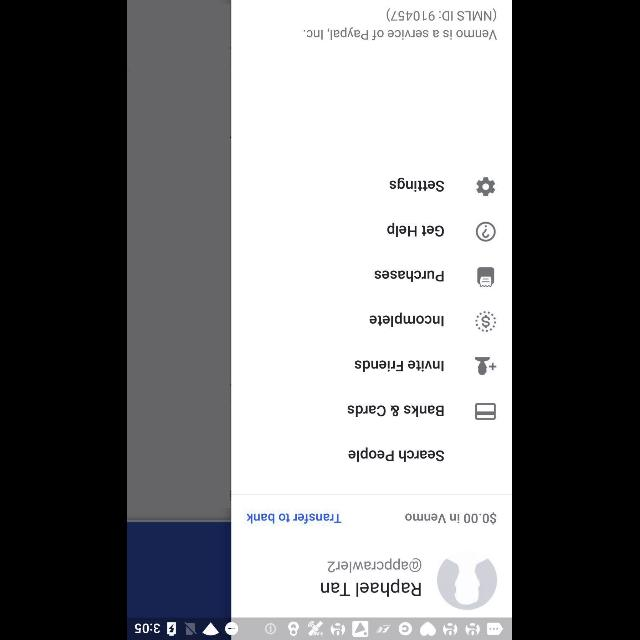icon: (438, 554, 498, 610), (476, 310, 496, 332), (476, 222, 496, 242), (475, 357, 497, 375), (476, 178, 496, 196), (476, 402, 496, 420), (478, 267, 494, 287)
panel: (232, 0, 512, 618)
text: (304, 8, 498, 40), (322, 578, 422, 598), (348, 447, 446, 463), (329, 558, 423, 574), (348, 404, 444, 418), (370, 312, 444, 328), (405, 512, 497, 524), (356, 360, 444, 372), (247, 514, 343, 524), (387, 222, 445, 238), (375, 270, 445, 282), (390, 178, 446, 192)
uppertaskbar: (128, 617, 512, 639)
